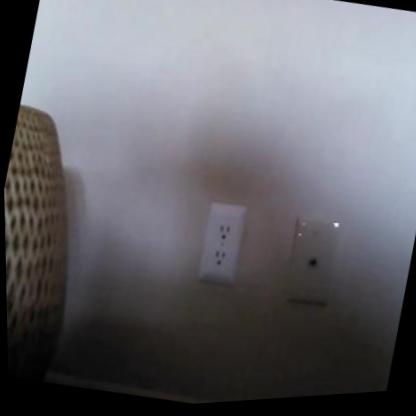OUTLET: (195, 196, 250, 289)
